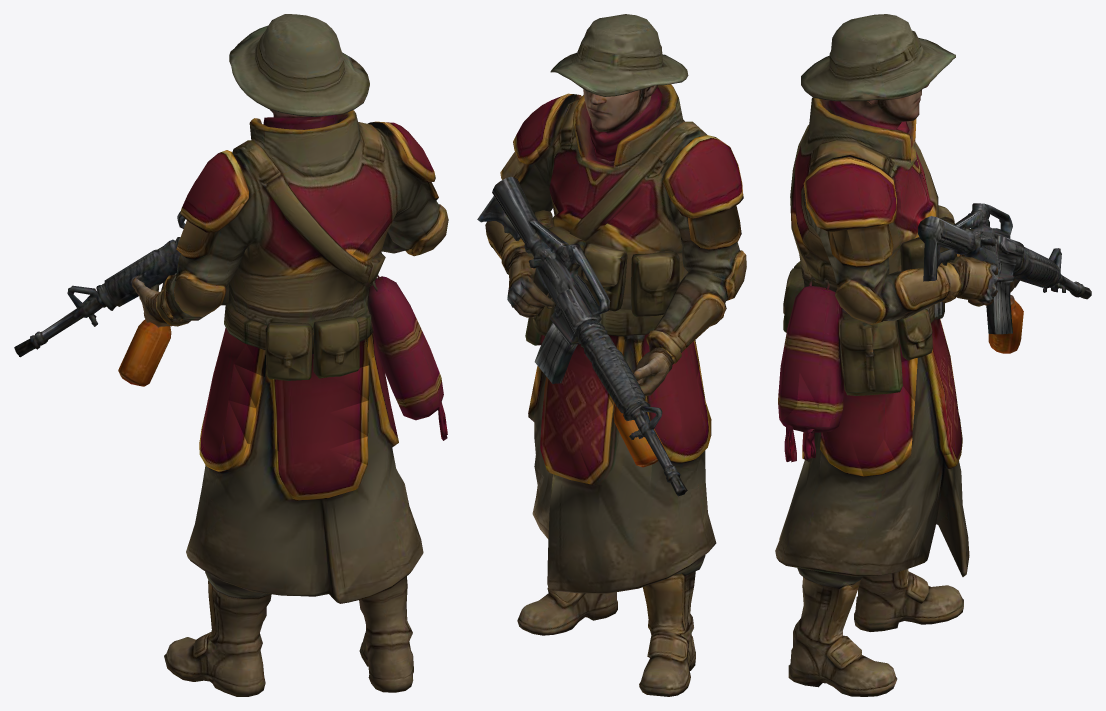
Rendered from militia.glb.
The picture shows the model from 3 angles, left to right: view 1: azimuth 30°, elevation 25°; view 2: azimuth 150°, elevation 25°; view 3: azimuth 270°, elevation 25°; orthographic projection. The views are drawn at different scales.
Parts seen in each view (by area): view 1: Body, Trim; view 2: Body, Trim; view 3: Body, Trim.
Boxes of the visible parts, <box> form: Body: <box>14,14,448,696</box>; Trim: <box>161,110,446,501</box>; Body: <box>477,14,746,696</box>; Trim: <box>493,84,745,484</box>; Body: <box>775,14,1091,696</box>; Trim: <box>780,97,990,476</box>.
Bounding box in the file's own units: 0.9053 × 1.8 × 0.8207.
2 materials, 2 textured.
